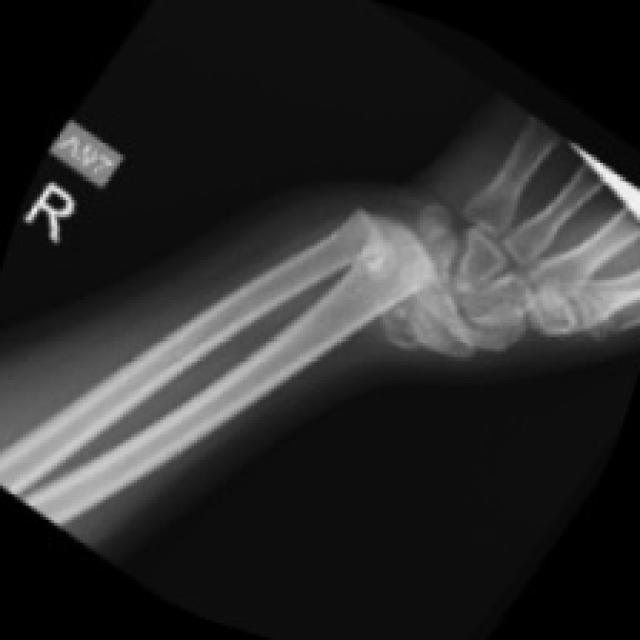fracture: (307, 165, 482, 327)
